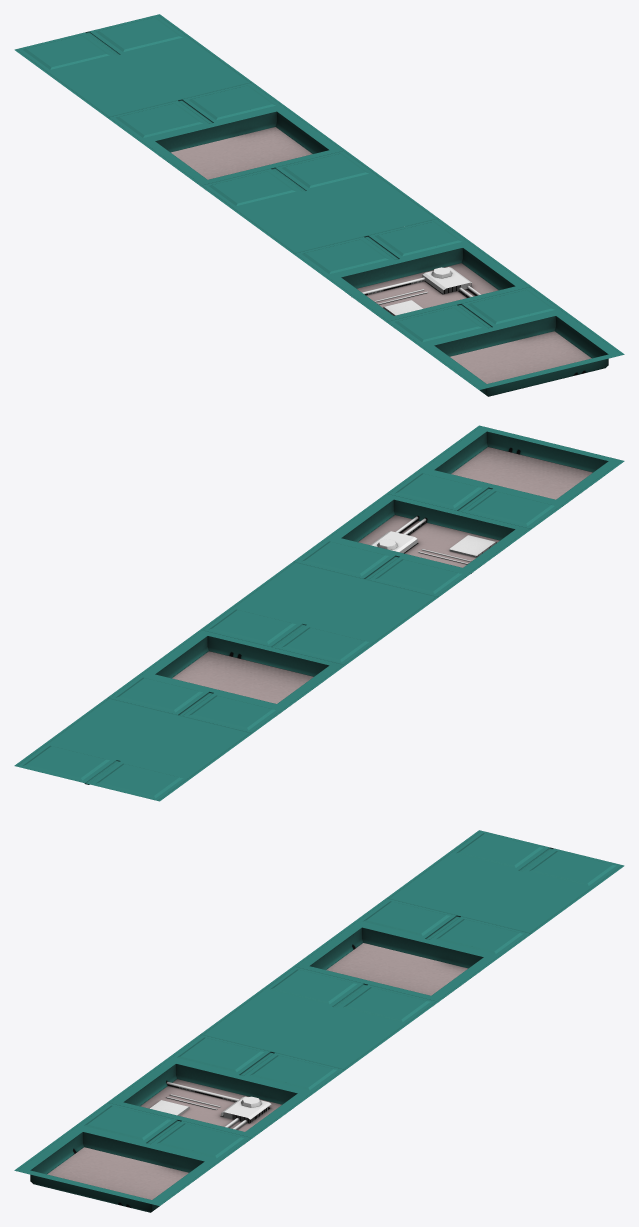
File: sc_lvl1_floortile_16.FBX
The picture shows the model from 3 angles, top to bottom: view 1: azimuth 30°, elevation 25°; view 2: azimuth 150°, elevation 25°; view 3: azimuth 330°, elevation 25°; orthographic projection.
Visible parts, largest first — view 1: sc_lvl1_floortile_16; view 2: sc_lvl1_floortile_16; view 3: sc_lvl1_floortile_16.
Boxes of the visible parts, <box> form: sc_lvl1_floortile_16: <box>14,14,624,396</box>; sc_lvl1_floortile_16: <box>14,425,624,801</box>; sc_lvl1_floortile_16: <box>14,830,624,1212</box>.
Bounding box in the file's own units: 18.1 × 1.89 × 100.
